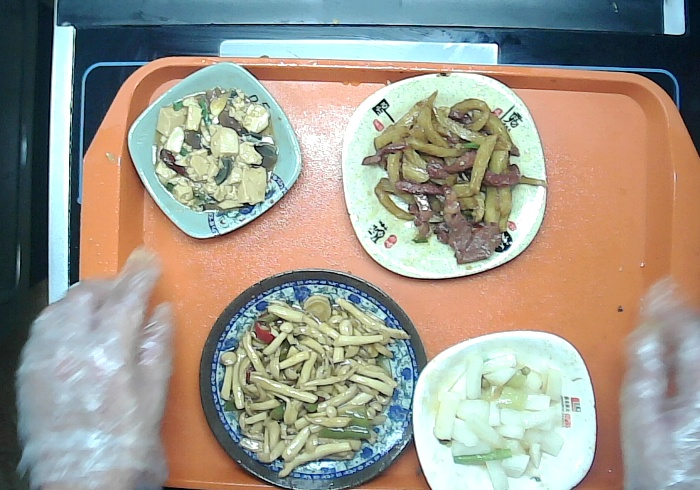NLDX-Bai_Se_Xiao_Fang_Die: (410, 328, 598, 490)
NLDX-Fu_Zi_Fang_Die: (340, 70, 549, 282)
NLDX-Qing_Hua_Xiao_Fang_Die: (125, 58, 306, 240)
NLDX-Qing_Hua_Yuan_Die: (195, 264, 431, 490)
